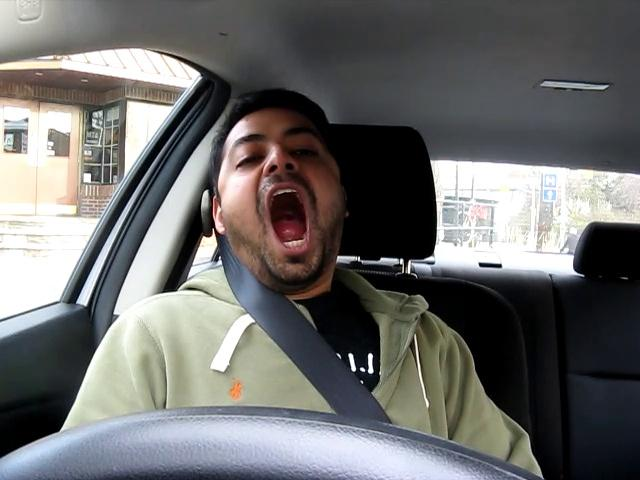close_eyeL: (223, 143, 269, 176)
close_eyeR: (276, 136, 332, 170)
yawn: (248, 177, 328, 264)
